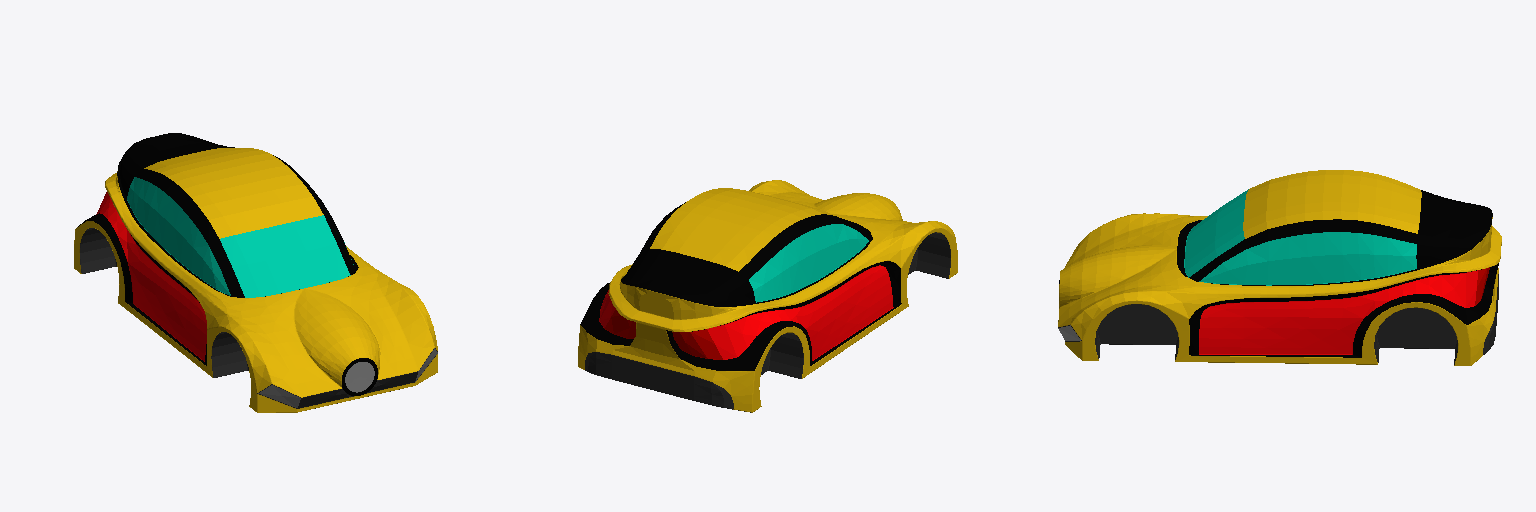
The model's file is newcar2.obj.
3 renders of one model, left to right at view 1: azimuth 30°, elevation 25°; view 2: azimuth 150°, elevation 25°; view 3: azimuth 270°, elevation 25°, orthographic.
Visible parts, largest first — view 1: Car; view 2: Car; view 3: Car.
Part boxes in pixels (x1,y1,x2,y2): Car: (74,133,437,412); Car: (578,180,957,412); Car: (1058,170,1501,365).
Bounding box in the file's own units: 2.22 × 1.44 × 4.53.